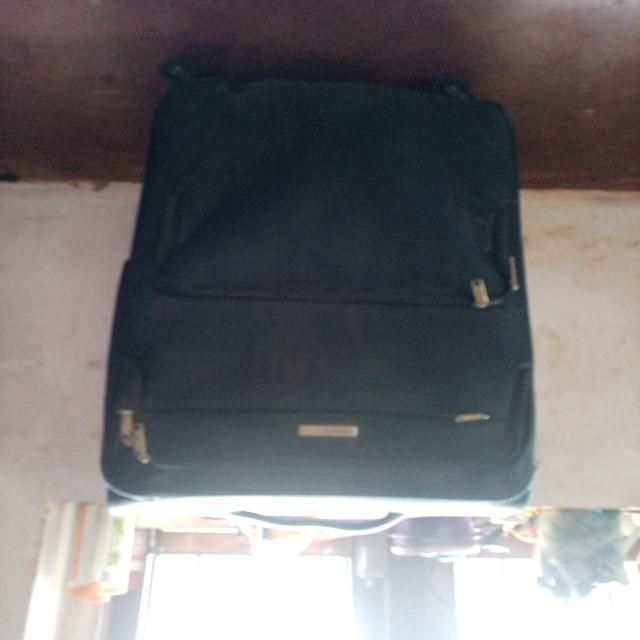suitcaserotation: (95, 51, 543, 542)
